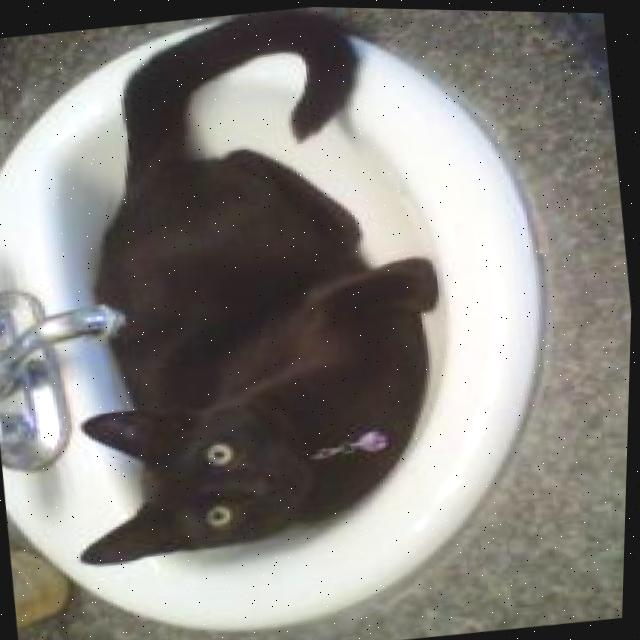Bombay: (13, 0, 485, 577)
